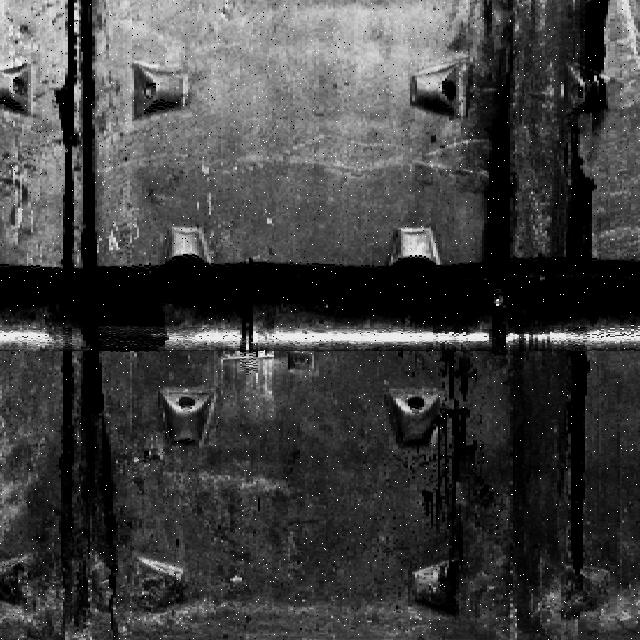leakage: (432, 351, 639, 639), (448, 1, 611, 267), (46, 354, 114, 637), (42, 1, 102, 270)
